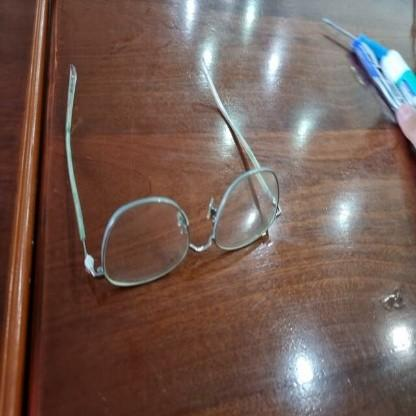not trash: (57, 55, 281, 294), (315, 10, 416, 143)
